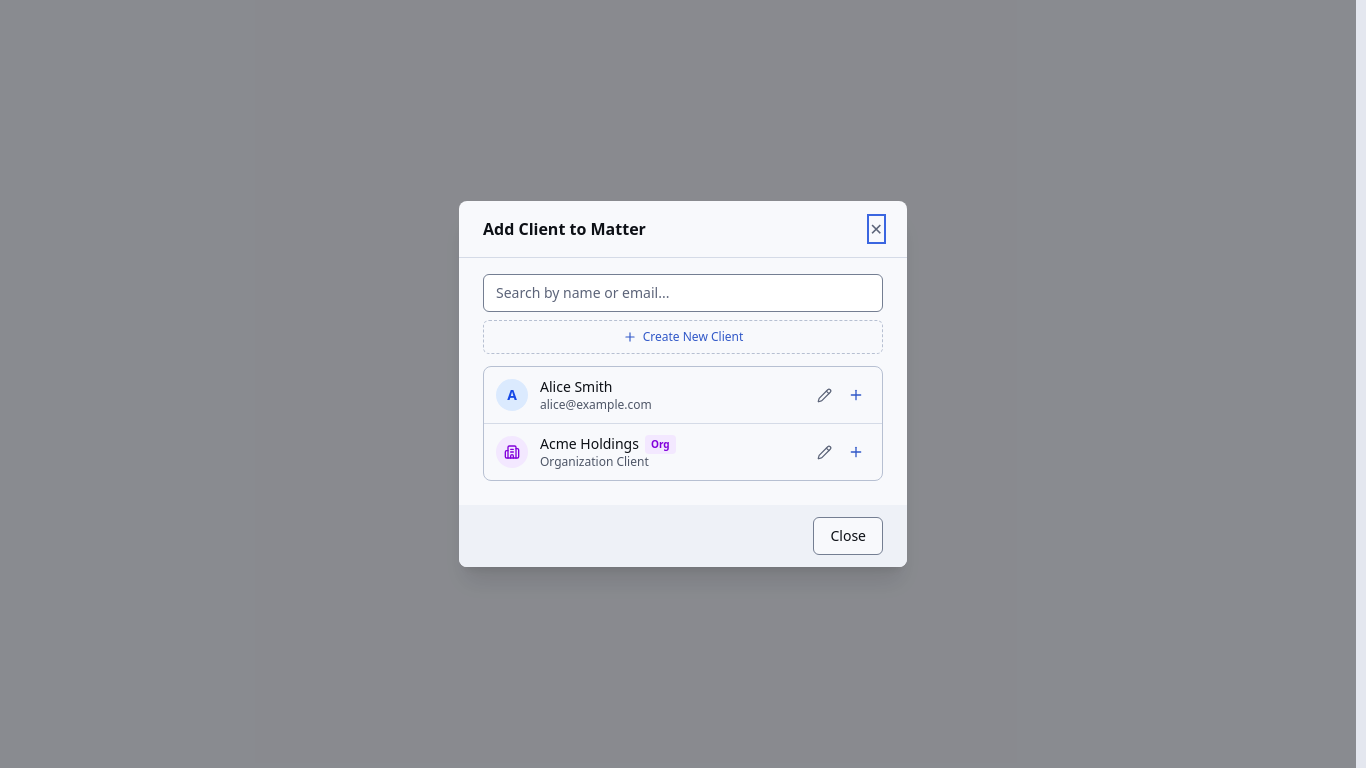
Test: saving before the client detail has loaded › keeps Save & Add disabled until the detail answers
Click the button named "Edit Client" next to "alice@example.com". click: (824, 395)
box: [811,382,838,408]
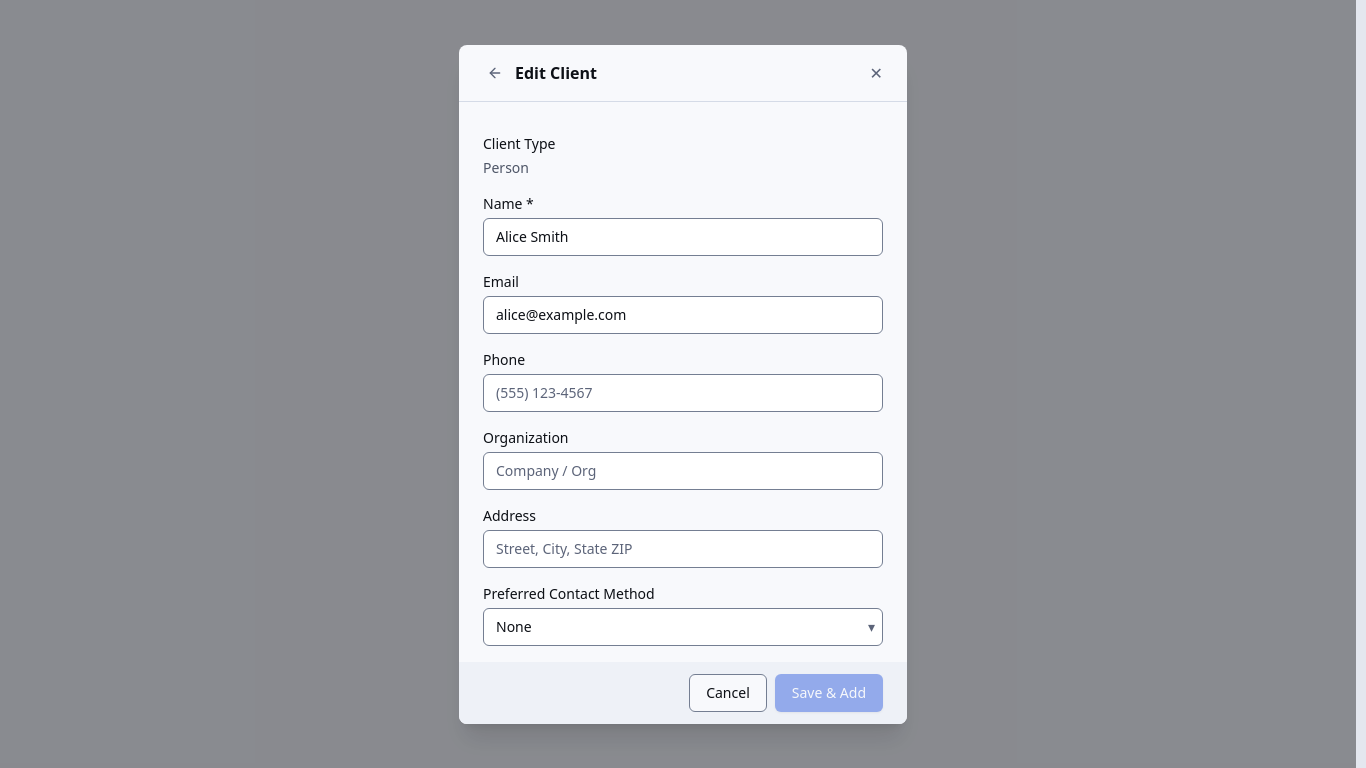
Expected: the button "Save & Add" is disabled
Click the button "Save & Add". click: (829, 692)
box: [775,674,883,712]
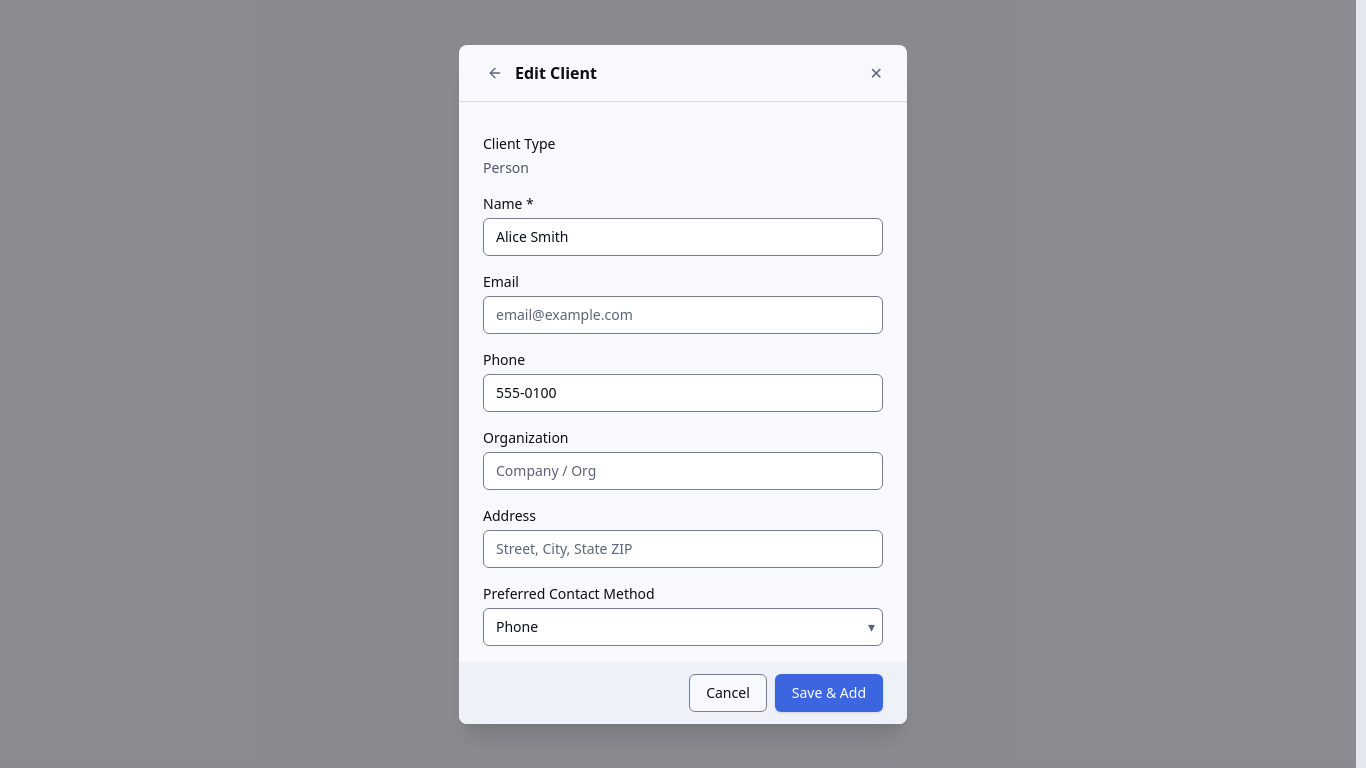
Expected: the button "Save & Add" is enabled, [775,674,883,712]
